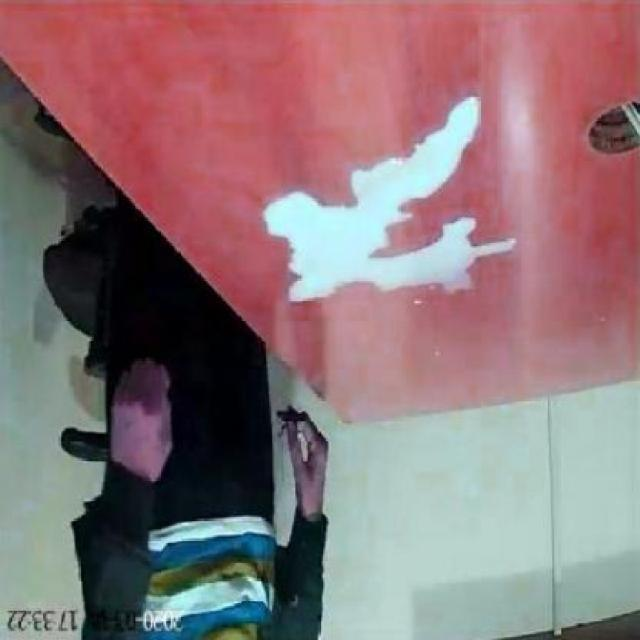spillage: (262, 95, 517, 301)
